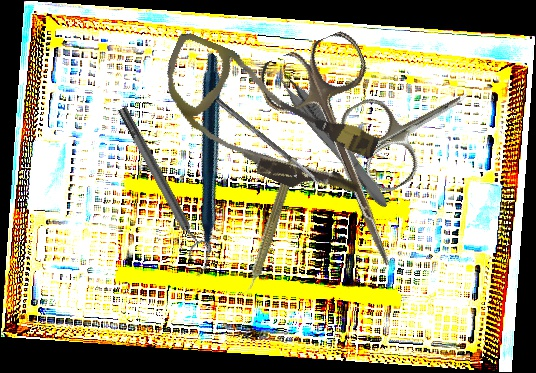Cannula: (142, 29, 390, 212)
Fixation Ring: (110, 101, 215, 264)
Handpiece: (95, 50, 314, 279), (238, 154, 301, 300)
Iris Scissors: (252, 26, 442, 285), (334, 55, 491, 198)
Surgical Spoon: (213, 96, 326, 190)
Tissue Forceps: (266, 60, 399, 211)
